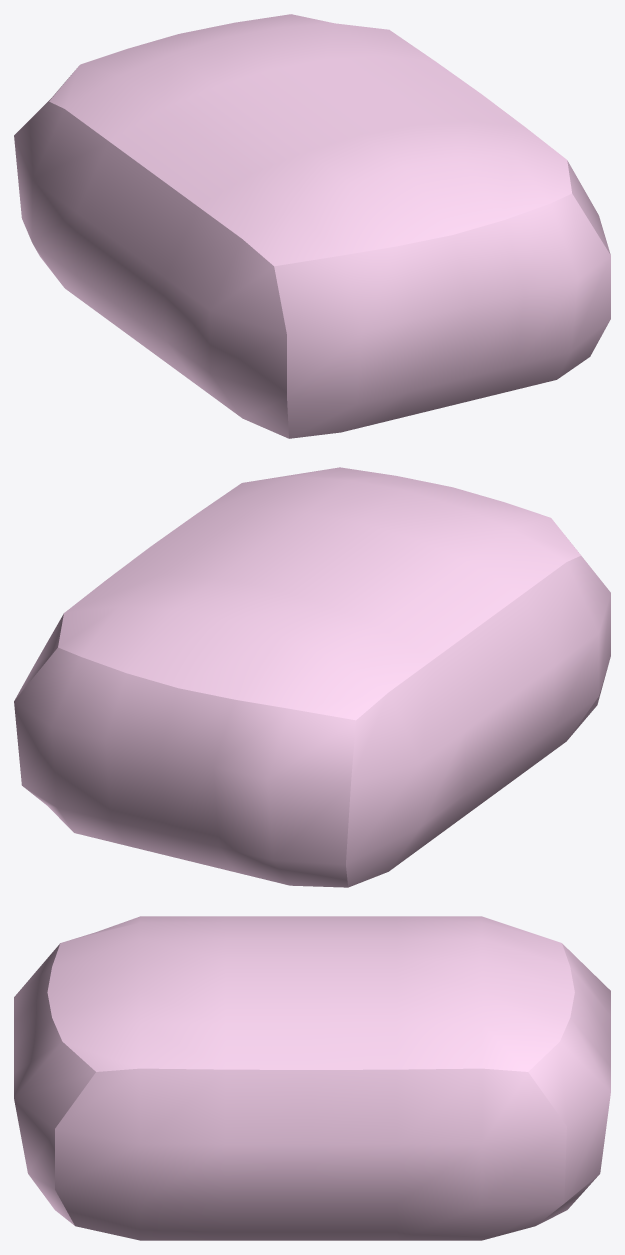
Rendered from Soap.fbx.
3 renders of one model, top to bottom at view 1: azimuth 30°, elevation 25°; view 2: azimuth 150°, elevation 25°; view 3: azimuth 270°, elevation 25°, orthographic. The views are drawn at different scales.
Parts seen in each view (by area): view 1: Seife:Seife; view 2: Seife:Seife; view 3: Seife:Seife.
Part boxes in pixels (x1,y1,x2,y2): Seife:Seife: [14, 14, 610, 438]; Seife:Seife: [14, 467, 610, 887]; Seife:Seife: [14, 916, 610, 1240].
Bounding box in the file's own units: 21.19 × 12.14 × 29.34.
